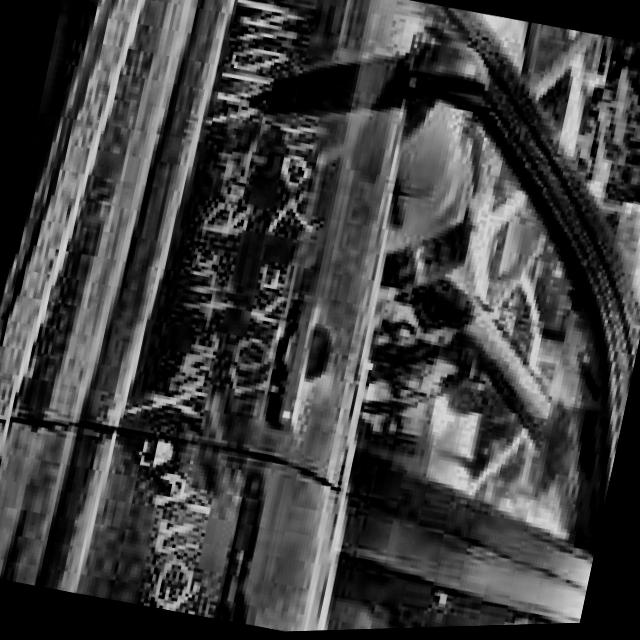door_scratch: (101, 0, 360, 624)
